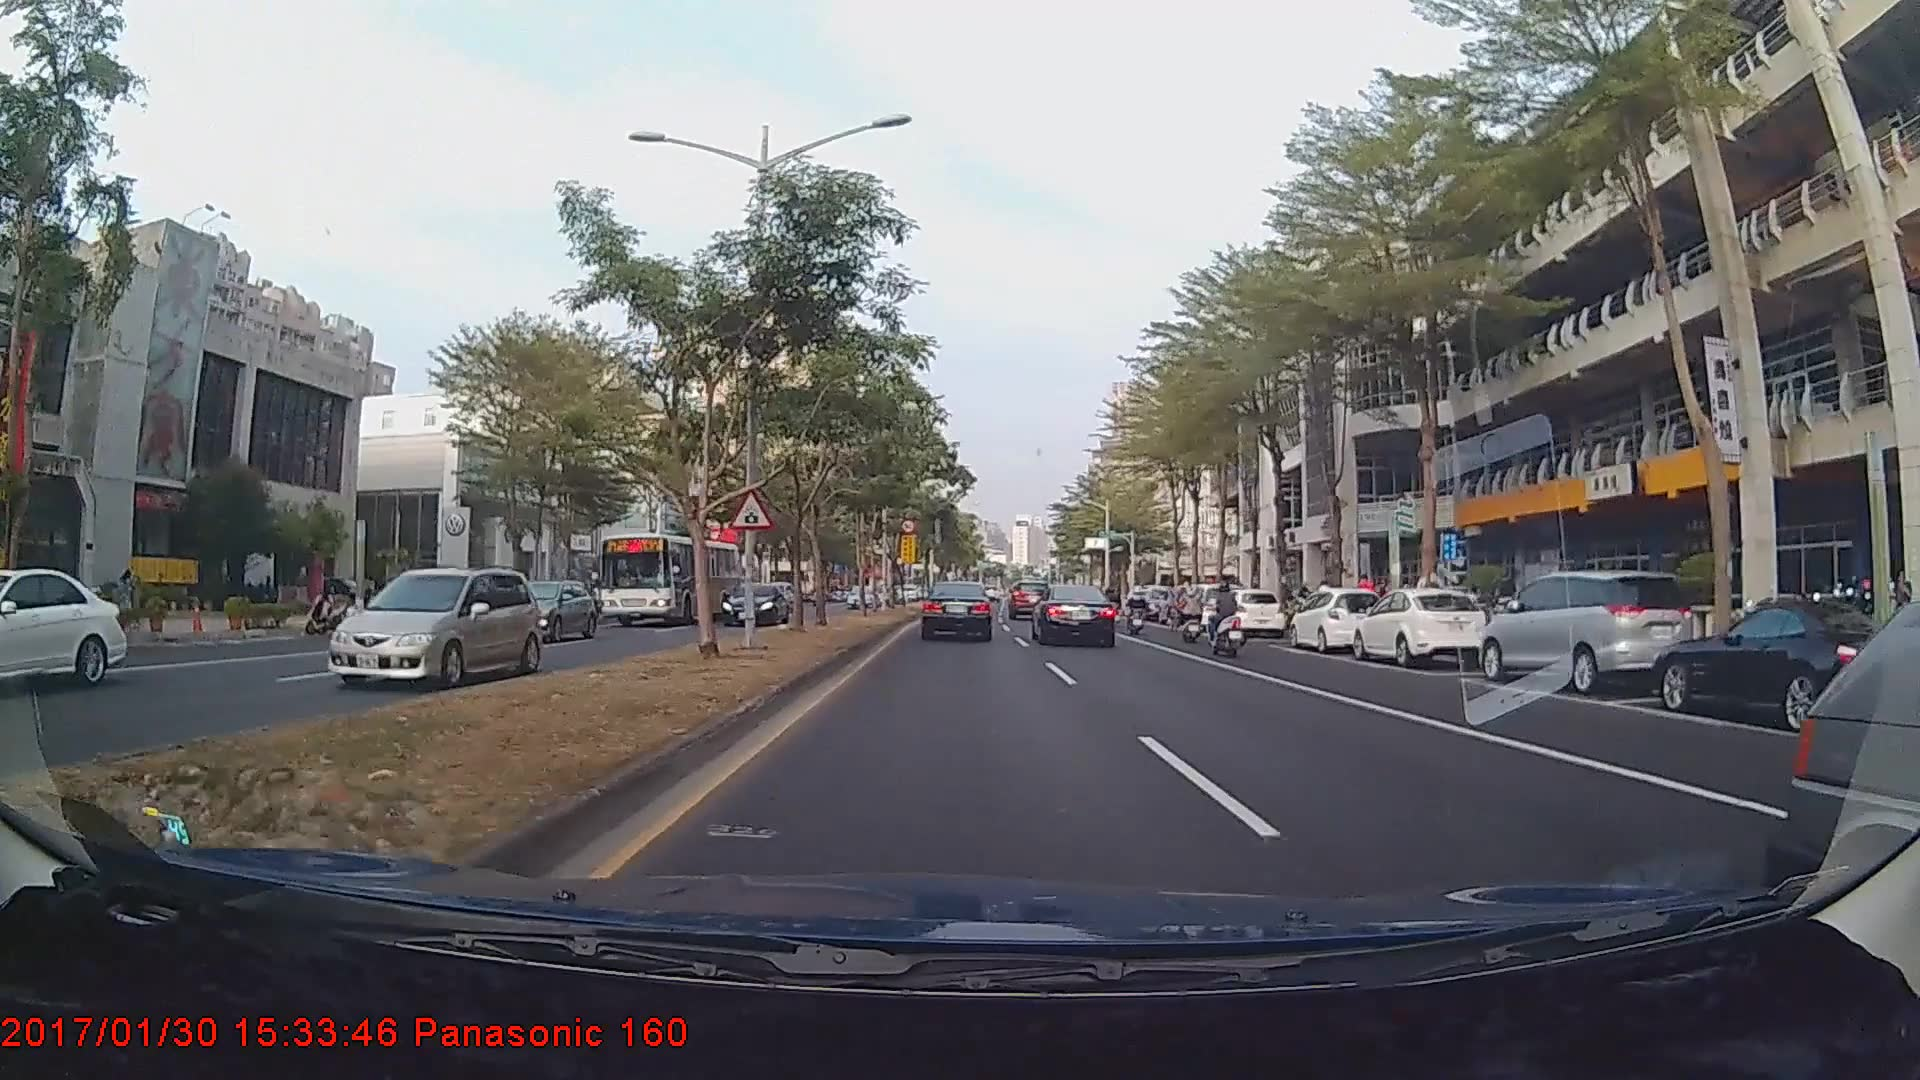rider: (1204, 582, 1253, 662), (1169, 590, 1215, 647), (1123, 586, 1150, 638)
vehicle: (1745, 370, 1908, 908), (1645, 598, 1919, 730), (1475, 569, 1696, 697), (323, 566, 543, 690), (0, 566, 127, 695), (597, 532, 745, 628), (1351, 589, 1489, 668), (1286, 588, 1389, 655), (497, 580, 594, 643), (1033, 583, 1117, 648), (919, 579, 994, 643), (1211, 589, 1286, 639), (720, 583, 791, 626), (1007, 586, 1049, 625), (845, 585, 879, 610)
